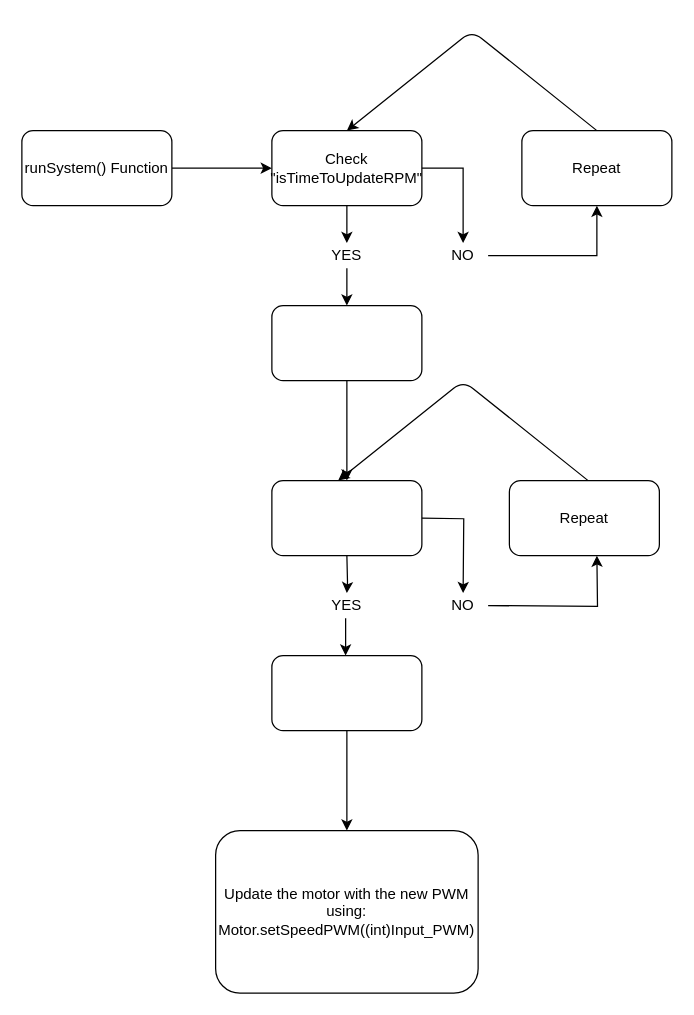
The diagram is 694 pixels wide and 1015 high, and some of its shapes have lost their labels. The centre of each missing label's shape, as x and y in pixels:
Calculate current output RPM of Motors.: pixel 346 342
Calculate Input_PWM from the set speed and current speed.: pixel 346 692
Check "isTimeToUpdatePID": pixel 346 517
